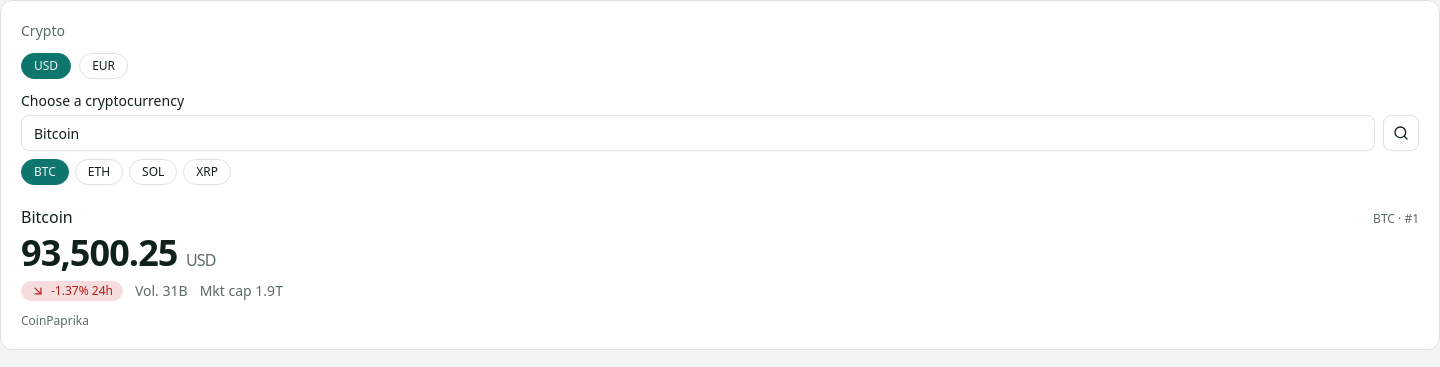
Test: CryptoCard › shows the top coins by market cap when the picker is opened
This screenshot has width=1440, height=367.
Expected: the text "93,500.25" is shown, [21,228,178,277]
Click the button named "Show cryptocurrencies" at (1401, 133), box [1383,115,1419,151]
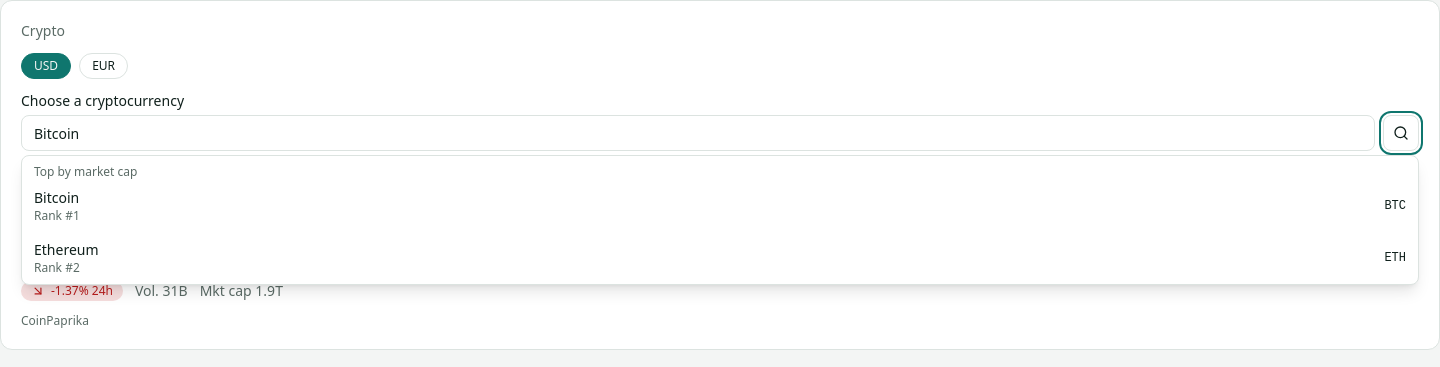
Expected: the option "Ethereum Rank #2 ETH" is shown, [22,232,1418,284]
Expected: the text "Top by market cap" is shown, [34,163,137,180]
